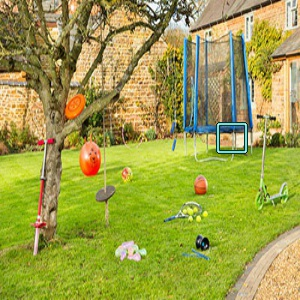square: (215, 121, 248, 154)
